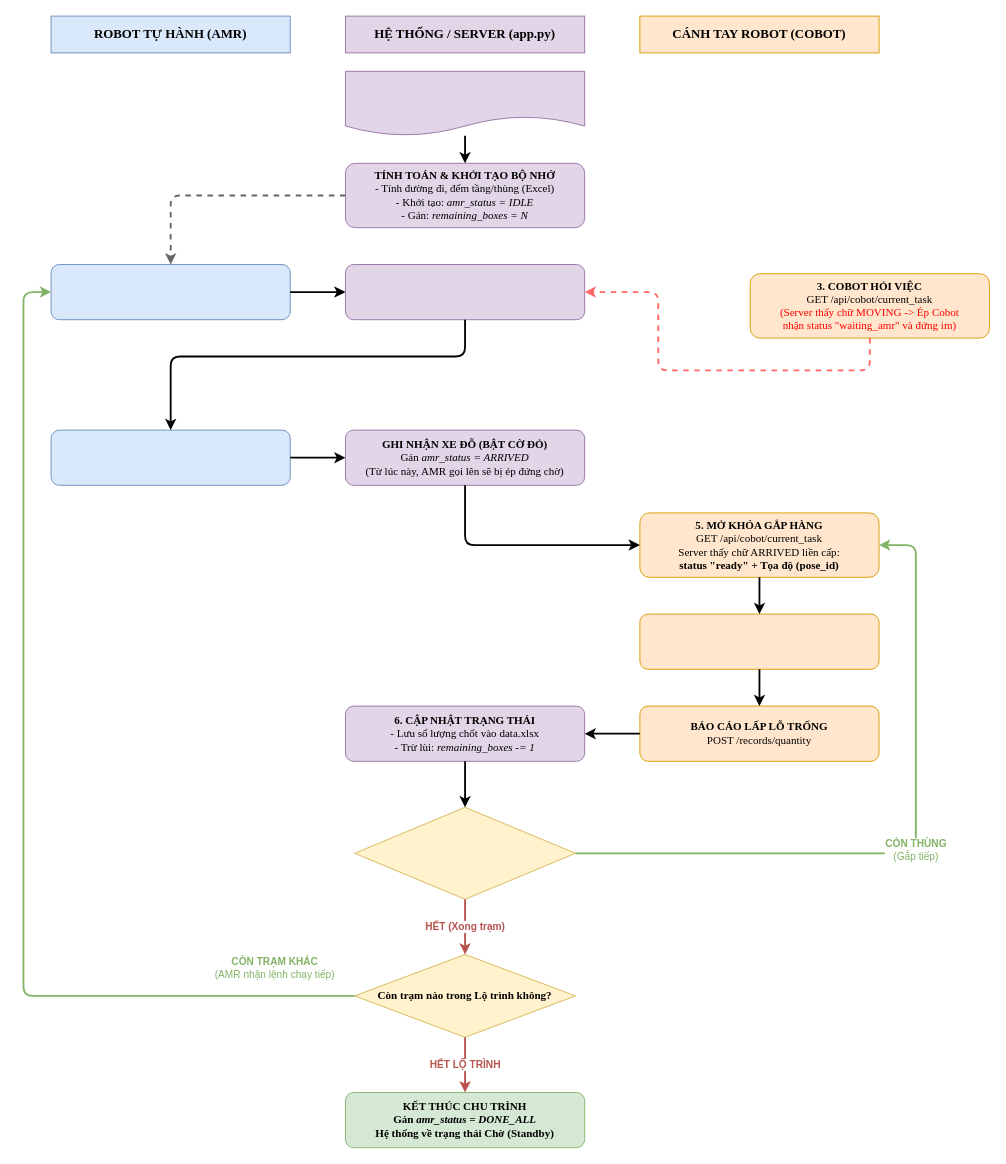
This 1006x1164 diagram has some shape labels left out. Each missing label, with the centre of its shape:
1. KHỞI TẠO ĐƠN HÀNG Nhập chuỗi lô hàng & Bấm xử lý trên Web UI: pixel 465 103
2. LIÊN TỤC HỎI ĐƯỜNG (POLLING) GET /api/amr/next_step: pixel 170 292
4. ĐẾN TRẠM, KHÓA PHANH Báo cáo: POST /api/amr/arrived: pixel 170 457
remaining_boxes > 0 ? (Kiểm tra xem đã thả hết số hàng của trạm này chưa?): pixel 464 852
THỰC THI GẮP THẢ HÀNG Vung tay theo tọa độ pose_id được cấp.: pixel 759 641
ĐIỀU HƯỚNG AMR Trả về Mã Đích (Ví dụ: 17L) Gán amr_status = MOVING: pixel 465 292
